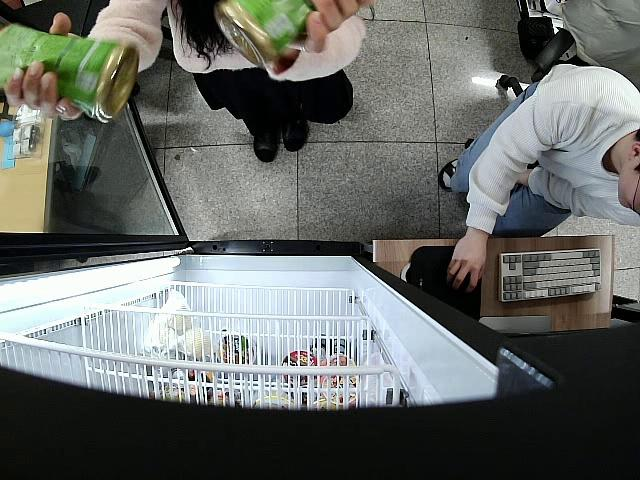00_hand: (5, 12, 83, 121), (284, 0, 376, 57), (448, 235, 487, 290)
19_17cha: (0, 18, 139, 124), (214, 0, 319, 69)
